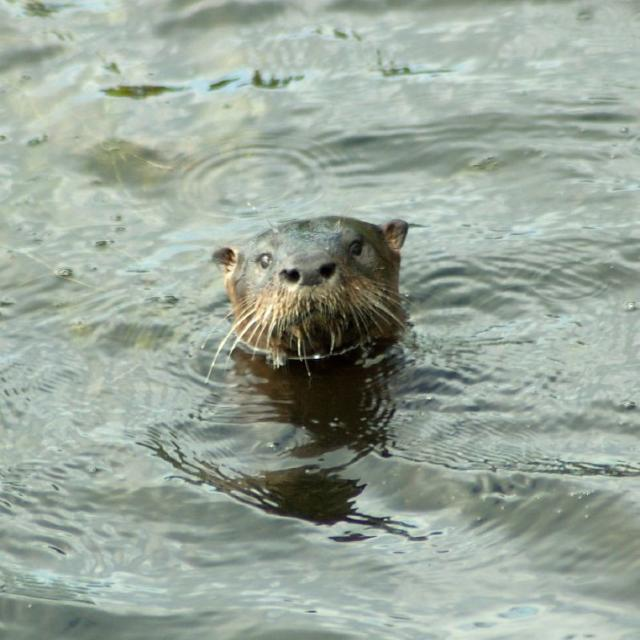otter: (211, 215, 411, 361)
